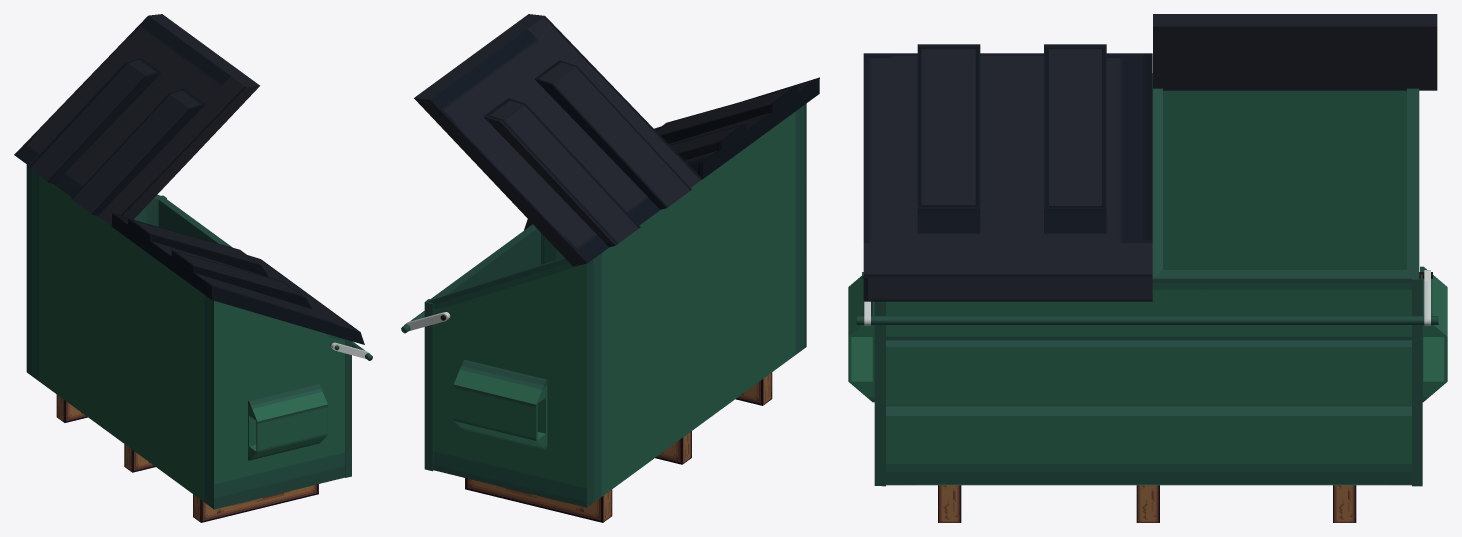
The model's file is Cacambadelico.fbx.
3 views of the same model, side by side, from view 1: azimuth 30°, elevation 25°; view 2: azimuth 150°, elevation 25°; view 3: azimuth 270°, elevation 25° (orthographic). The views are drawn at different scales.
Visible parts, largest first — view 1: Cube, Tampa, LAteral, Pezin, Plane; view 2: Cube, Tampa, LAteral, Pezin, Plane; view 3: Cube, Tampa, Cabo, LAteral, Plane, Pezin.
Part boxes in pixels (left/top/right/bottom): Cube: left=26, top=164, right=345, bottom=509; Tampa: left=14, top=14, right=364, bottom=344; LAteral: left=248, top=383, right=327, bottom=460; Pezin: left=56, top=394, right=318, bottom=522; Plane: left=161, top=195, right=351, bottom=477; Cube: left=427, top=103, right=806, bottom=507; Tampa: left=414, top=14, right=819, bottom=266; LAteral: left=453, top=360, right=547, bottom=450; Pezin: left=465, top=372, right=772, bottom=522; Plane: left=424, top=299, right=433, bottom=471; Cube: left=886, top=73, right=1419, bottom=485; Tampa: left=863, top=14, right=1437, bottom=301; Cabo: left=856, top=272, right=1438, bottom=324; LAteral: left=848, top=266, right=1447, bottom=402; Plane: left=874, top=274, right=1422, bottom=486; Pezin: left=938, top=485, right=1356, bottom=522.
Bounding box in the file's own units: 241 × 494 × 526.
Materials: 4 (4 with a texture image).
